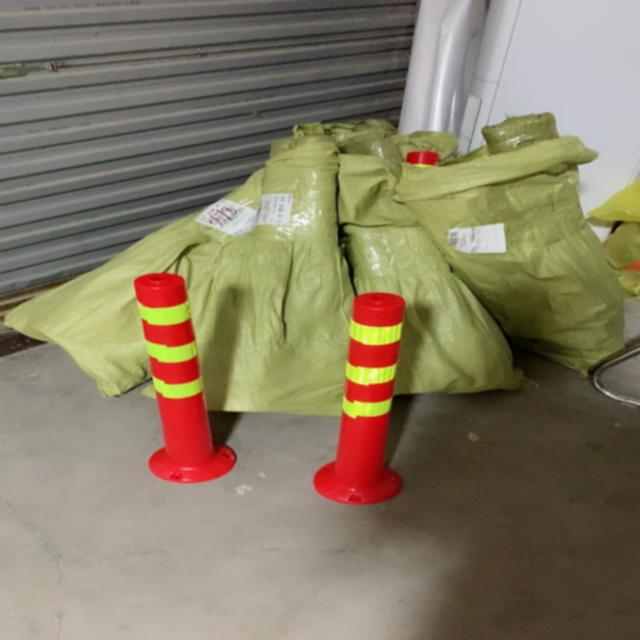warning_column: (122, 271, 241, 485), (313, 293, 406, 502)
